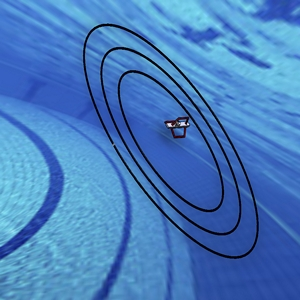circle: (71, 11, 272, 269)
submarine: (156, 101, 193, 144)
